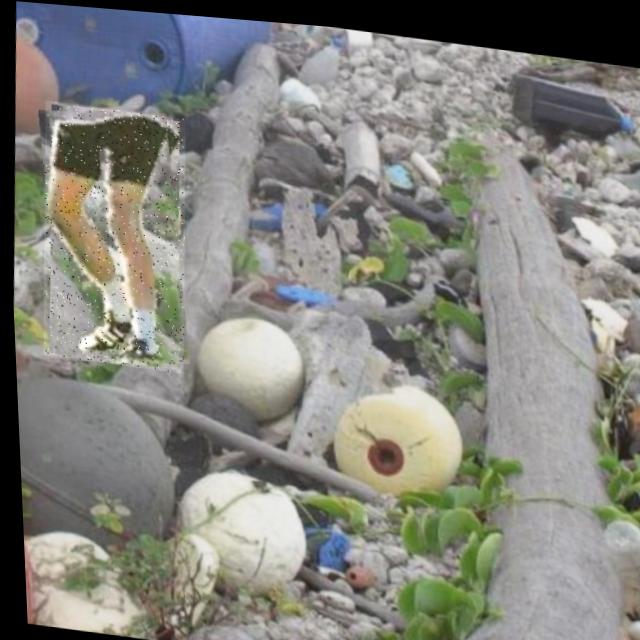Person in Rubble: (31, 99, 194, 372)
